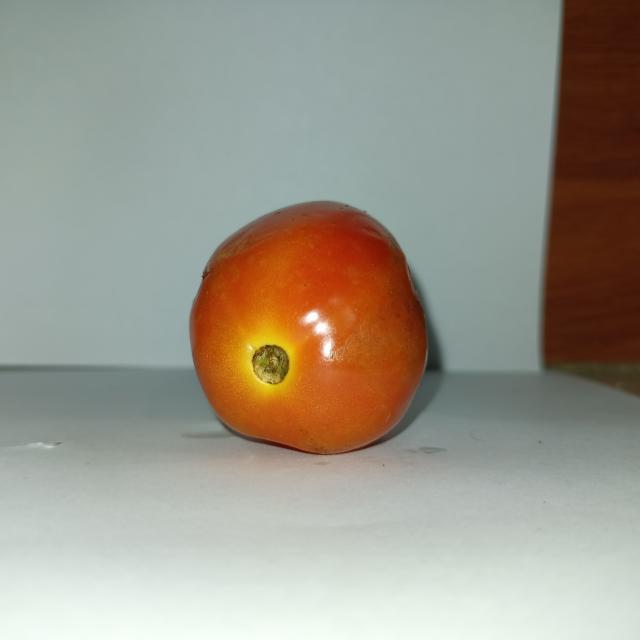Red: (187, 198, 429, 455)
